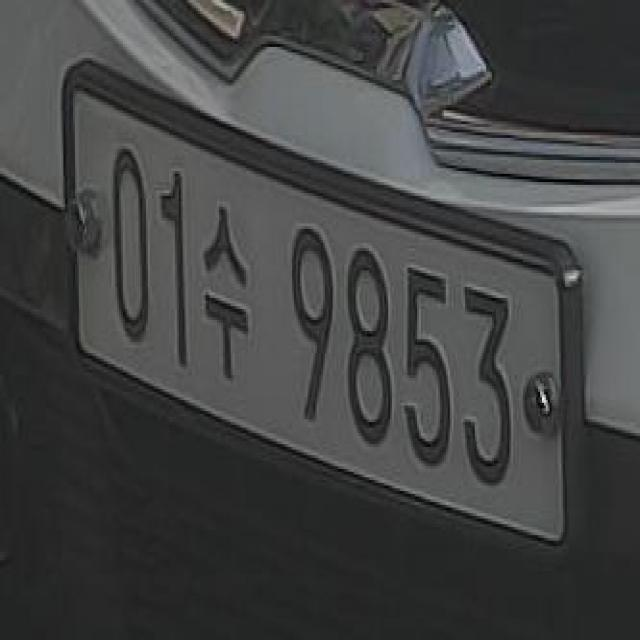illegal_plate: (60, 88, 569, 568)
